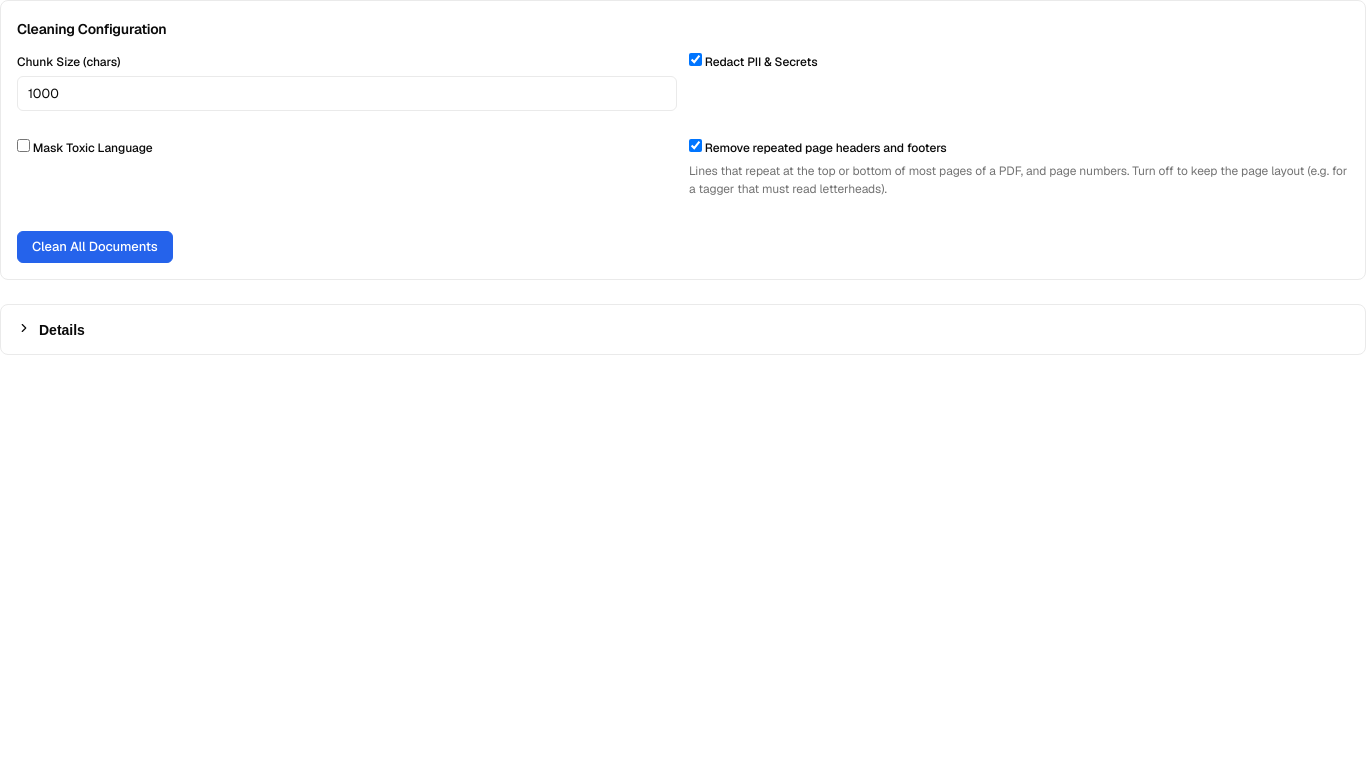
Test: CleaningPanel — page furniture option › is on by default and sent with the request
This screenshot has width=1366, height=768.
Expected: the checkbox with test id "cleaning-remove-page-furniture" is checked, [689,139,702,152]
Expected: the text "Remove repeated page headers and footers" is shown, [689,139,947,156]
Click the button "Clean All Documents" at (95, 247), box [17,231,173,263]
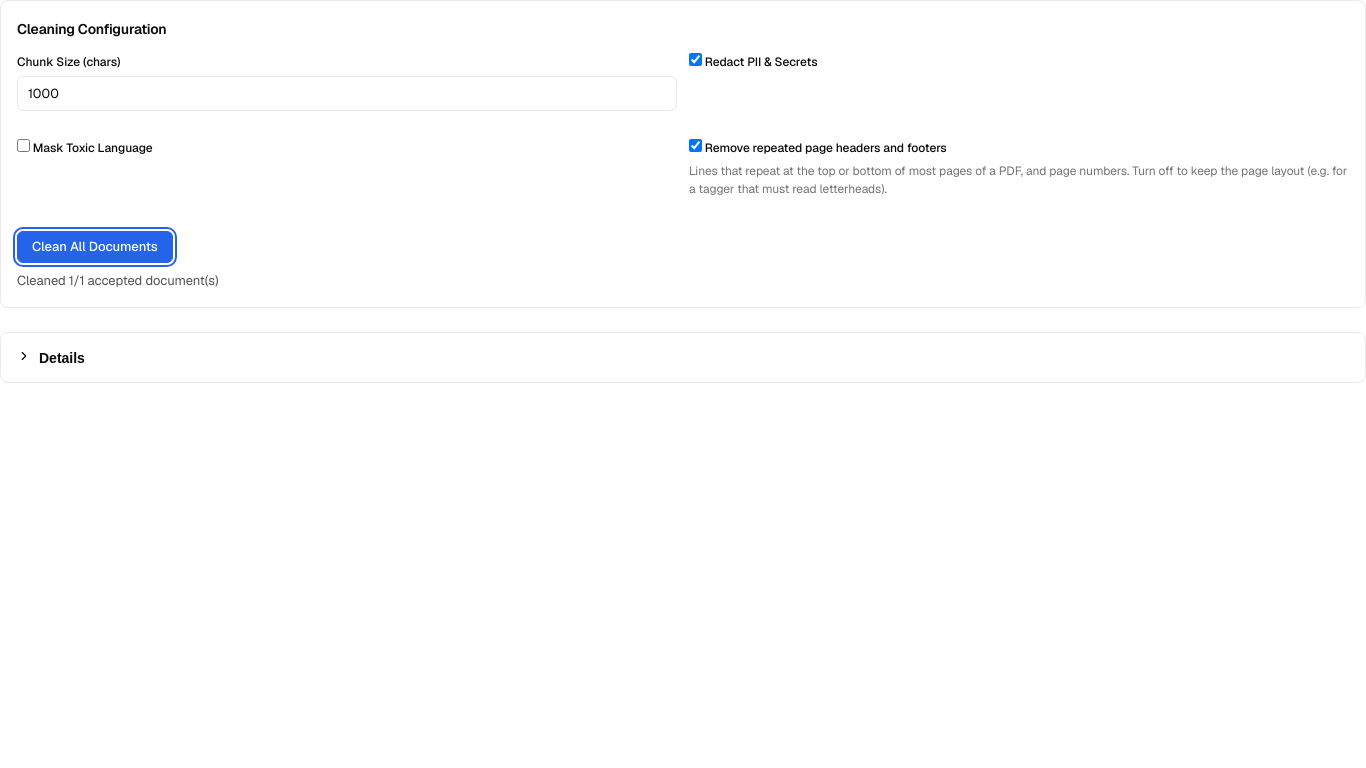
Expected: the text "Cleaned 1/1 accepted document(s)" is shown, [17,272,218,289]
Click the button with test id "data-details-toggle" at (62, 358), box [17,349,1349,366]
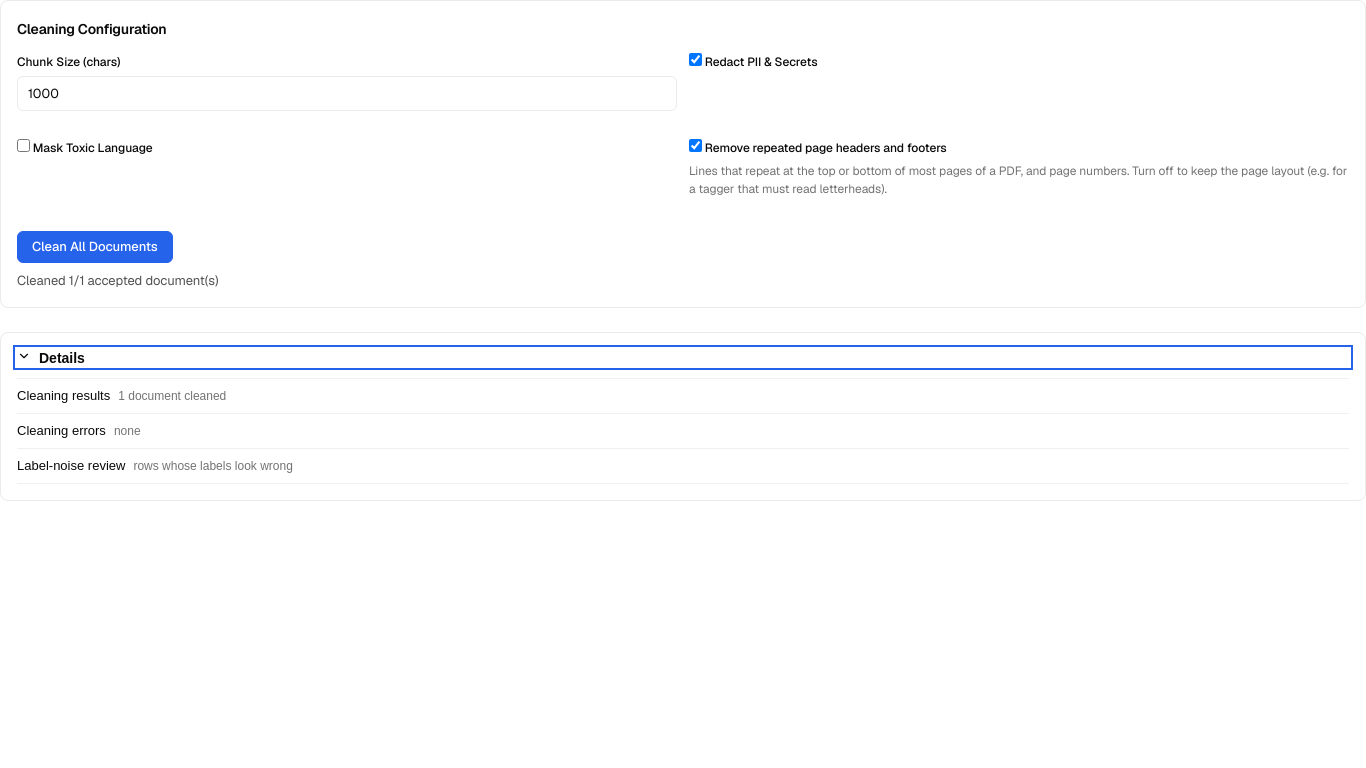
Click the button with test id "data-details-section-results" at (64, 395), box [17,379,1349,414]
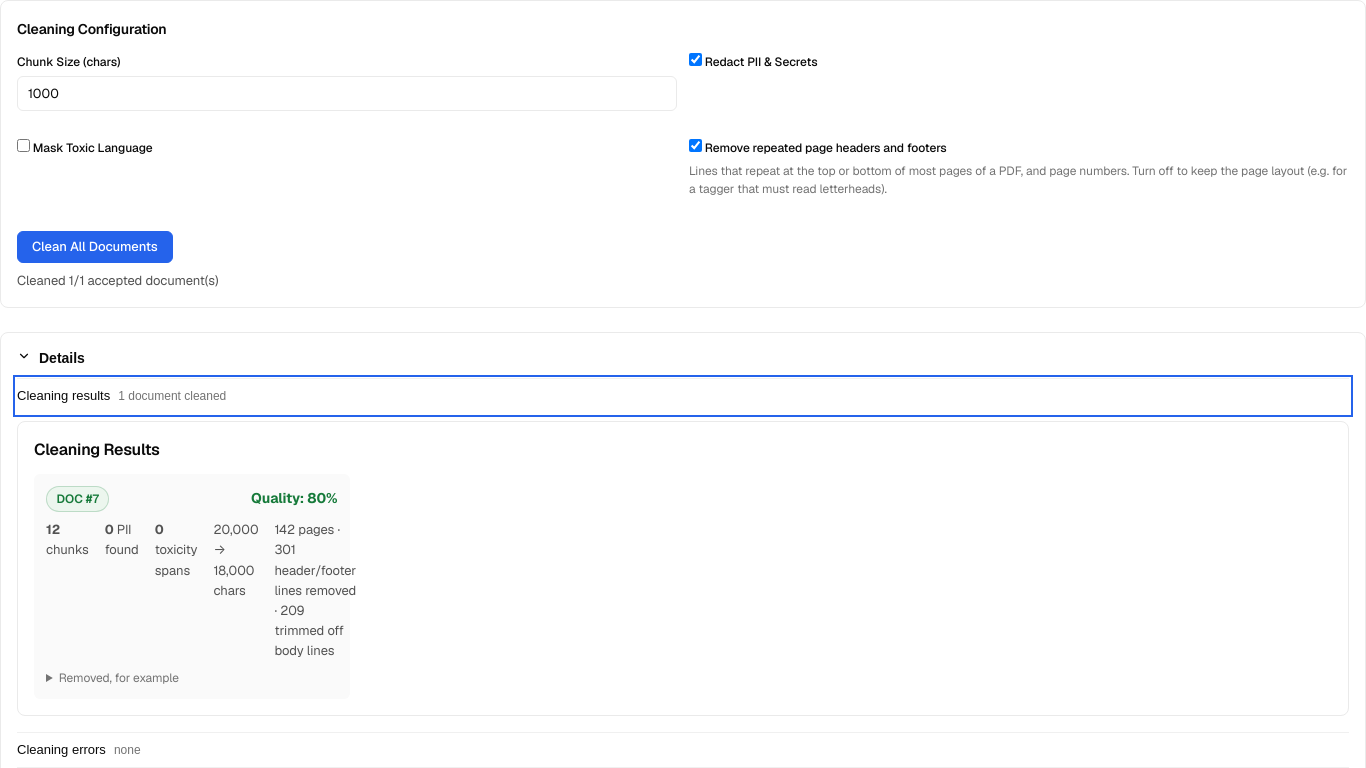
Expected: the text with test id "cleaning-furniture-7" reads "142 pages · 301 header/footer lines removed · 209 trimmed off body lines", [274,521,356,659]
